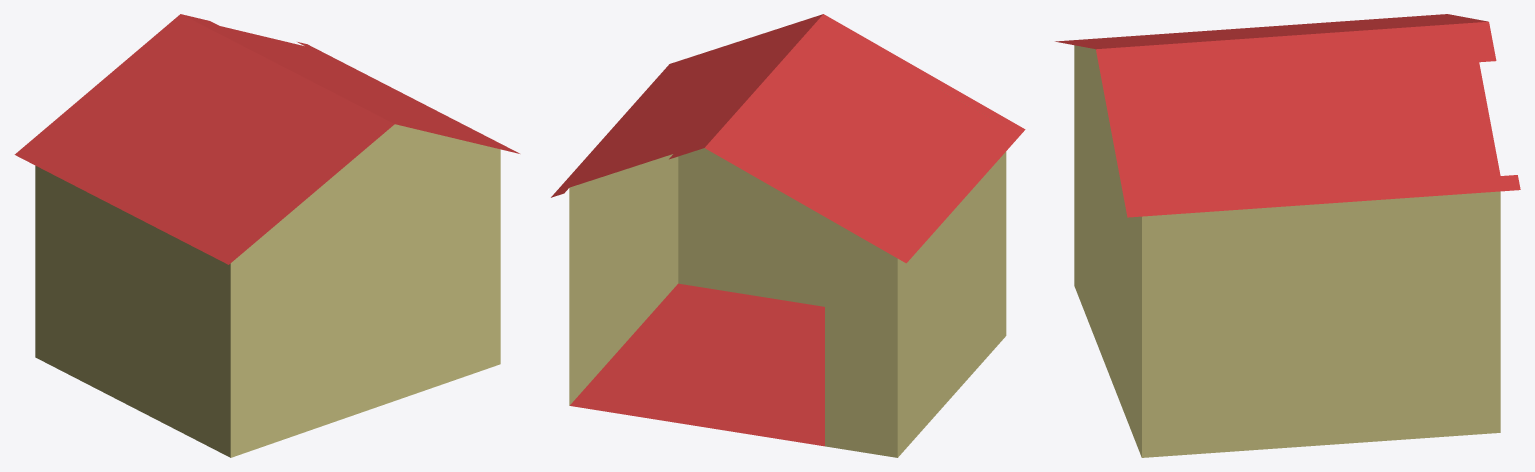
3 views of the same model, side by side, from view 1: azimuth 30°, elevation 25°; view 2: azimuth 150°, elevation 25°; view 3: azimuth 270°, elevation 25° (orthographic). The views are drawn at different scales.
Bounding box in the file's own units: 14.49 × 13.34 × 10.62.
